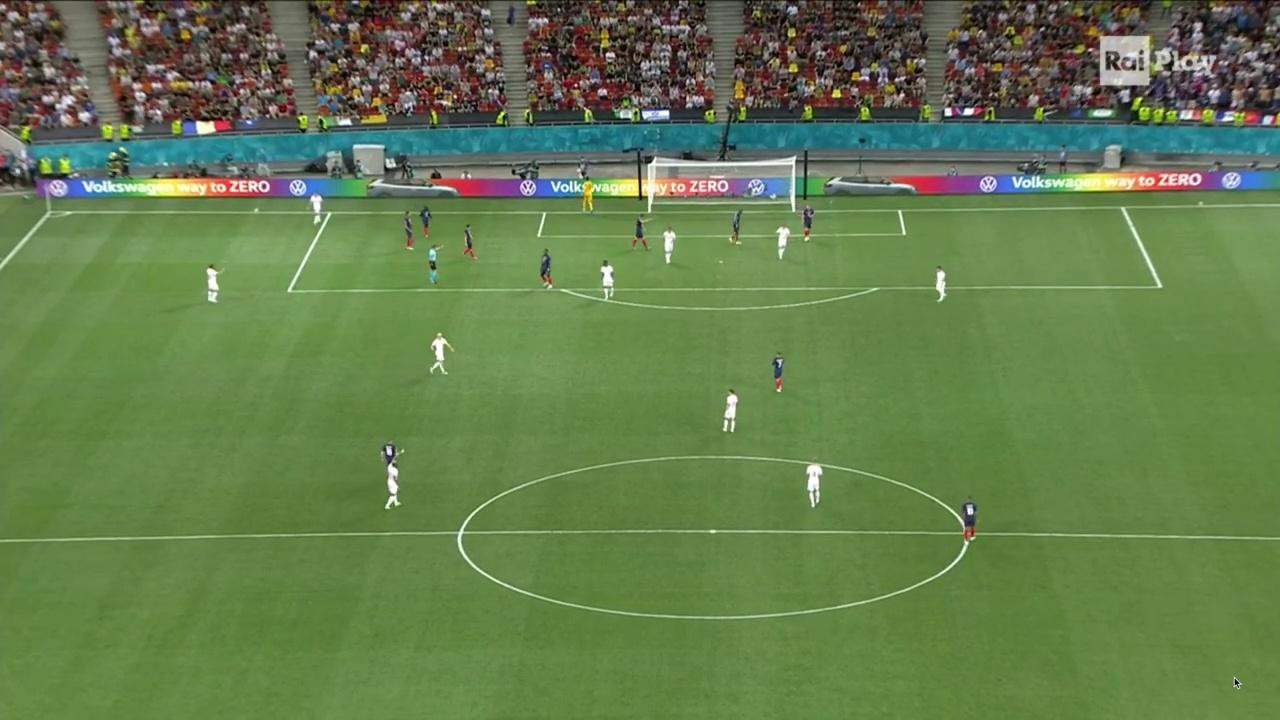goalkeeper: (580, 174, 599, 216)
player: (382, 442, 408, 513), (428, 330, 457, 380), (628, 211, 661, 254), (204, 261, 229, 307), (804, 455, 824, 509), (959, 493, 979, 546), (378, 437, 408, 469), (768, 348, 788, 396), (720, 387, 740, 435), (597, 257, 617, 304), (460, 221, 481, 265), (401, 206, 420, 254), (930, 264, 951, 306), (772, 221, 793, 262), (303, 192, 326, 229), (415, 199, 435, 241), (727, 205, 747, 247), (798, 199, 817, 243), (538, 247, 556, 293), (658, 225, 678, 266)
referee: (423, 240, 447, 285)
